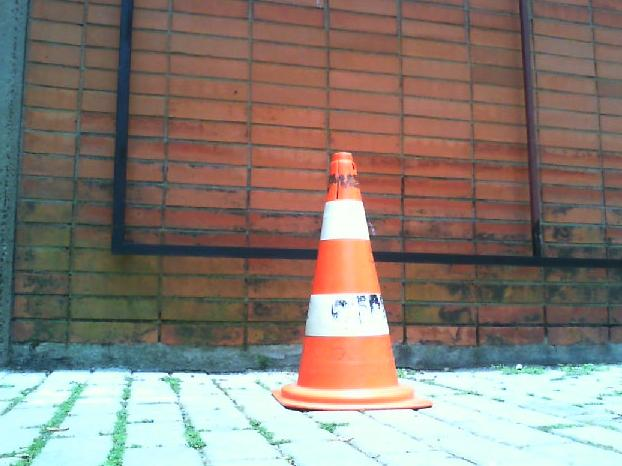0 cone: (271, 152, 432, 411)
